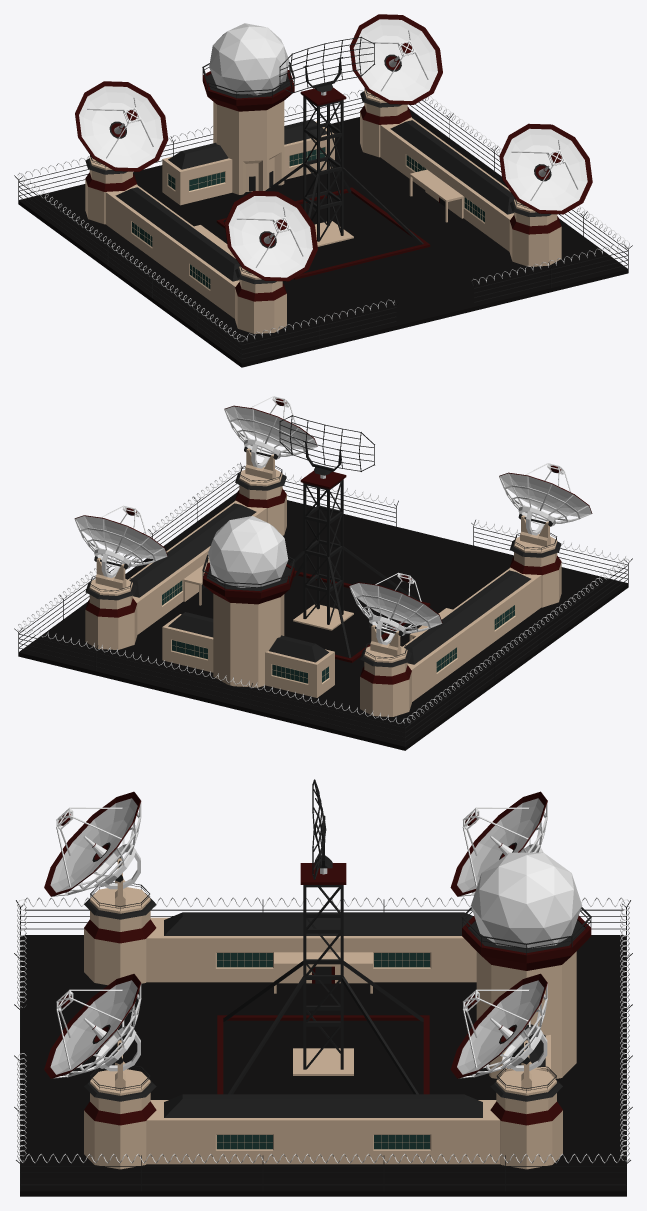
The model's file is RadarStation.FBX.
3 renders of one model, top to bottom at view 1: azimuth 30°, elevation 25°; view 2: azimuth 150°, elevation 25°; view 3: azimuth 270°, elevation 25°, orthographic. The views are drawn at different scales.
Visible parts, largest first — view 1: RadarStation, antenna (×5), radomeBuilding, building _r, building_l, radarTower, radioTelescope_03, radioTelescope_04, radioTelescope_02, radioTelescope_01, fenceGate, fence_01 (+5 smaller); view 2: RadarStation, radomeBuilding, antenna (×5), building _r, radarTower, building_l, antennaMount (×4), radioTelescope_02, radioTelescope_01, fence_03, radioTelescope_04, radioTelescope_03 (+6 smaller); view 3: RadarStation, antenna (×5), building_l, building _r, radomeBuilding, radarTower, radioTelescope_02, radioTelescope_03, radioTelescope_04, antennaMount (×3), fence_02, barbwire_02 (+4 smaller).
Part boxes in pixels (<box>): RadarStation: <box>18,109,628,367</box>; antenna (×5): <box>75,14,592,281</box>; radomeBuilding: <box>162,23,334,205</box>; building _r: <box>105,184,239,318</box>; building_l: <box>380,117,514,251</box>; radarTower: <box>216,87,430,279</box>; radioTelescope_03: <box>509,201,561,266</box>; radioTelescope_04: <box>235,268,286,333</box>; radioTelescope_02: <box>360,91,411,157</box>; radioTelescope_01: <box>85,158,137,224</box>; fenceGate: <box>242,250,628,359</box>; fence_01: <box>18,181,241,358</box>; RadarStation: <box>18,492,628,750</box>; radomeBuilding: <box>162,516,334,697</box>; antenna (×5): <box>74,396,592,645</box>; building _r: <box>402,567,541,701</box>; radarTower: <box>289,470,430,662</box>; building_l: <box>128,500,266,634</box>; antennaMount (×4): <box>89,448,557,662</box>; radioTelescope_02: <box>85,582,137,649</box>; radioTelescope_01: <box>360,649,411,716</box>; fence_03: <box>19,634,404,742</box>; radioTelescope_04: <box>509,540,561,607</box>; radioTelescope_03: <box>235,473,286,535</box>; RadarStation: <box>20,935,626,1196</box>; antenna (×5): <box>44,779,547,1078</box>; building_l: <box>146,1094,500,1164</box>; building _r: <box>146,912,476,993</box>; radomeBuilding: <box>461,852,591,1078</box>; radarTower: <box>217,863,429,1094</box>; radioTelescope_02: <box>490,1075,562,1169</box>; radioTelescope_03: <box>84,1075,156,1169</box>; radioTelescope_04: <box>84,893,156,985</box>; antennaMount (×3): <box>90,858,556,1095</box>; fence_02: <box>20,1155,626,1191</box>; barbwire_02: <box>19,1153,624,1163</box>.
Size of the model in its own units: 1020 by 1020 by 485.
